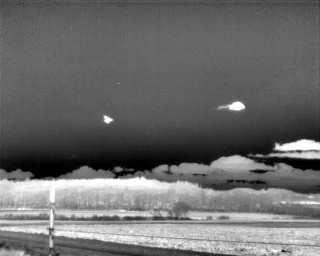DRONE: (99, 110, 117, 129)
